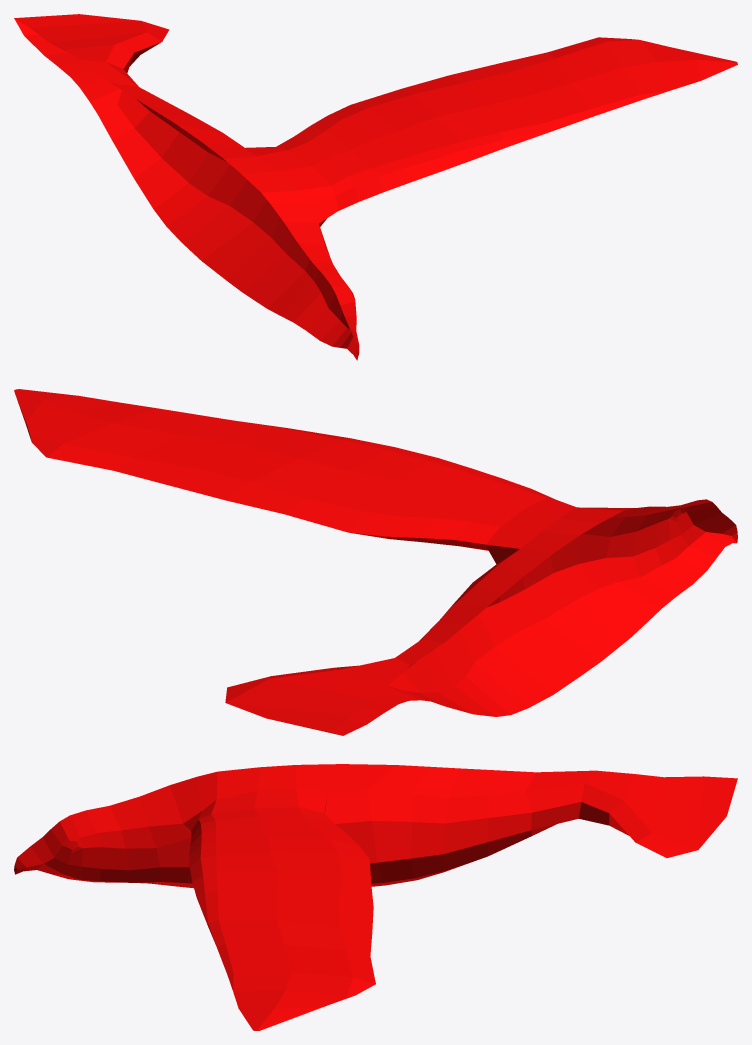
Rendered from pigeon-v12.glb.
3 renders of one model, top to bottom at view 1: azimuth 30°, elevation 25°; view 2: azimuth 150°, elevation 25°; view 3: azimuth 270°, elevation 25°, orthographic. The views are drawn at different scales.
Parts seen in each view (by area): view 1: BSurfaceMesh.001; view 2: BSurfaceMesh.001; view 3: BSurfaceMesh.001.
Part boxes in pixels (x1,y1,x2,y2): BSurfaceMesh.001: (14,14,737,360); BSurfaceMesh.001: (14,389,737,735); BSurfaceMesh.001: (14,764,737,1030).
Bounding box in the file's own units: 3.72 × 0.8675 × 4.47.
